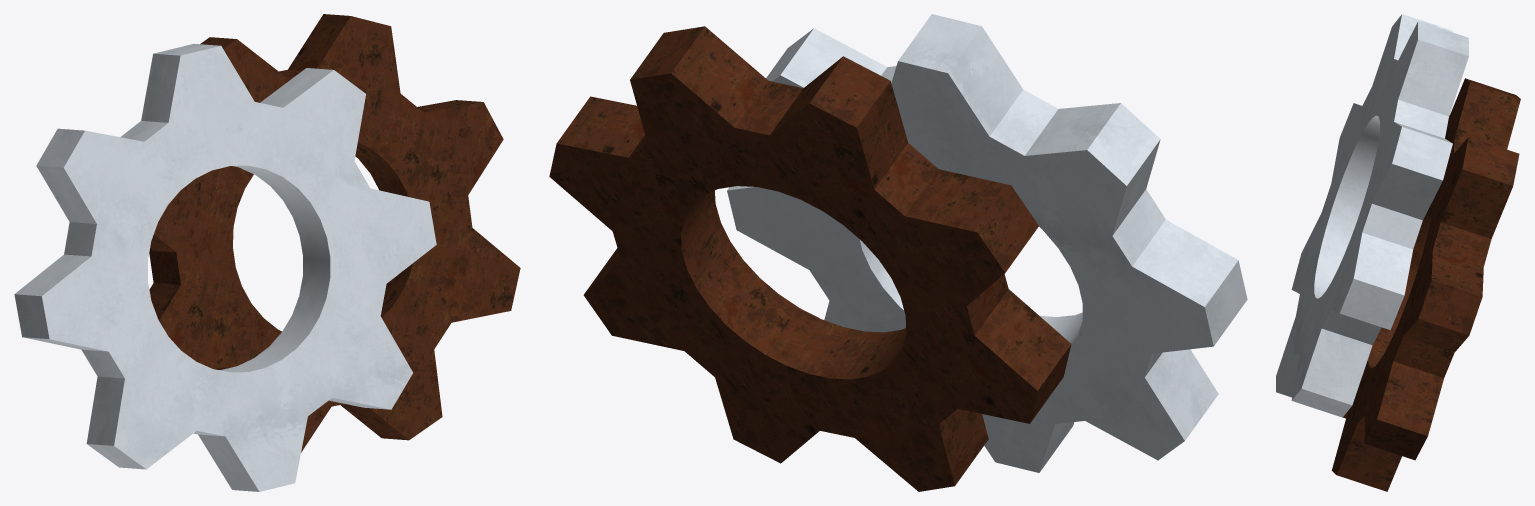
File: Gear.fbx
The picture shows the model from 3 angles, left to right: view 1: azimuth 30°, elevation 25°; view 2: azimuth 150°, elevation 25°; view 3: azimuth 270°, elevation 25°; orthographic projection. The views are drawn at different scales.
Visible parts, largest first — view 1: Gear_Gear_0.001, GearRust_GearRust_0.001; view 2: GearRust_GearRust_0.001, Gear_Gear_0.001; view 3: Gear_Gear_0.001, GearRust_GearRust_0.001.
Part boxes in pixels (x1,y1,x2,y2): Gear_Gear_0.001: (14,43,436,491); GearRust_GearRust_0.001: (149,14,520,452); GearRust_GearRust_0.001: (549,26,1071,491); Gear_Gear_0.001: (727,14,1247,472); Gear_Gear_0.001: (1276,14,1468,417); GearRust_GearRust_0.001: (1332,78,1520,491).
Bounding box in the file's own units: 24.56 × 19.52 × 11.29.
